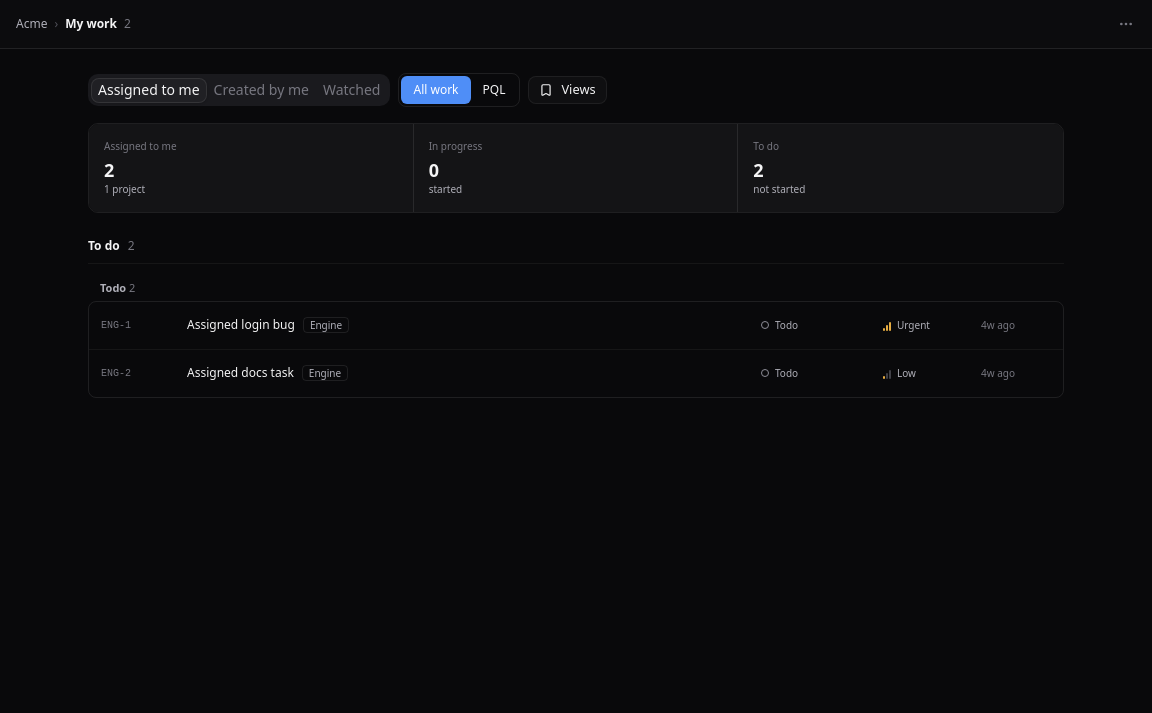
mywork PQL mode (C112T1) › leaving PQL mode restores the full set and closes the editor
The width and height of the screenshot is (1152, 713).
Check: the text "Assigned login bug" is shown, box [187, 316, 295, 334]
Check: the text "Assigned docs task" is shown, box [187, 364, 294, 382]
Step 1. Click the button "PQL" → (494, 90), box [470, 76, 517, 104]
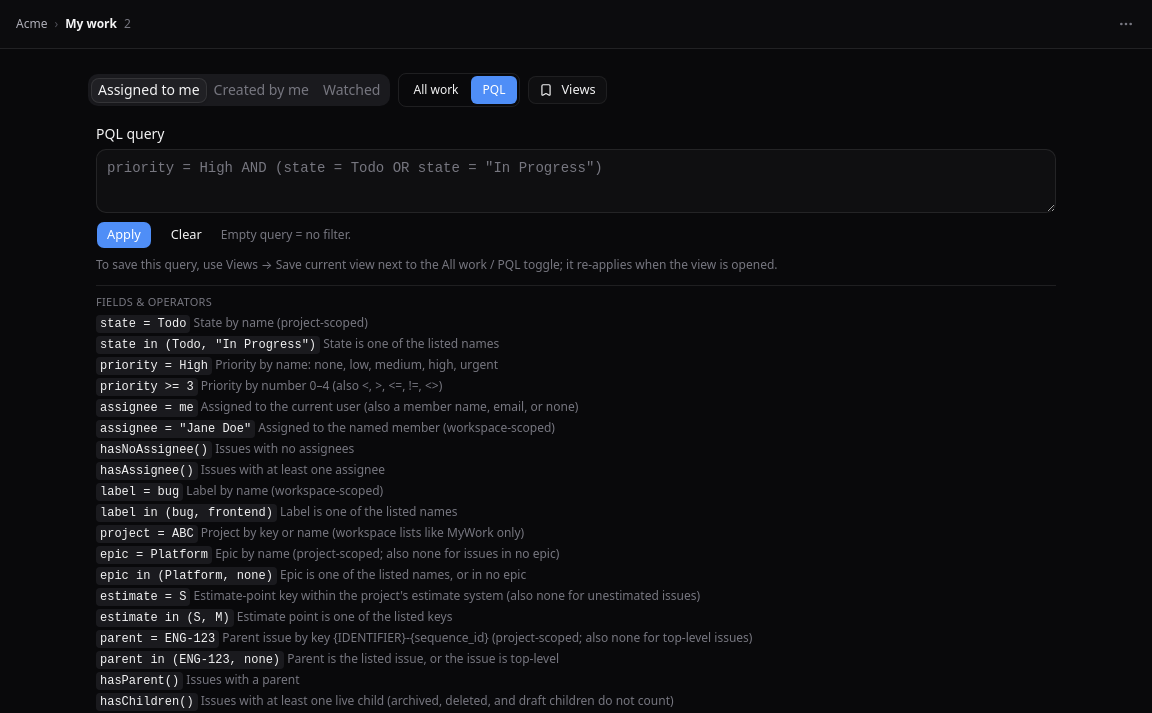
Check: the text box labelled "PQL query" is shown
Step 2. Type "priority = High" into the text box labelled "PQL query" → (576, 181), box [96, 149, 1056, 213]
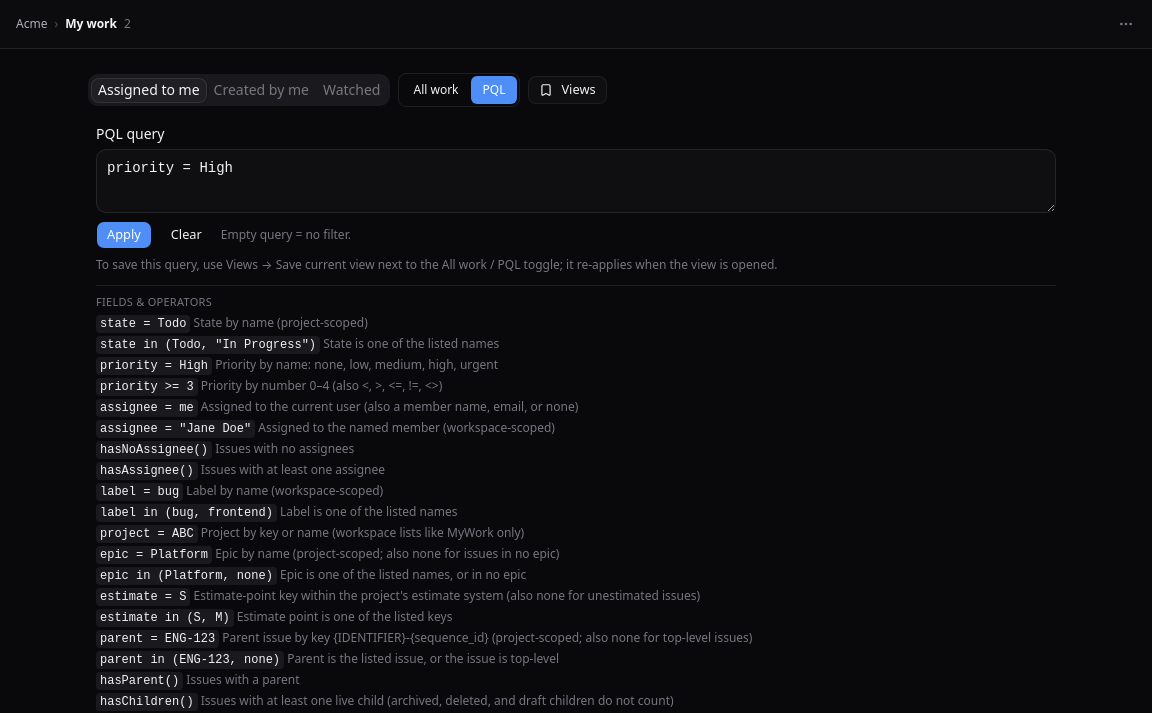
Step 3. Click the button "Apply" → (124, 235), box [96, 221, 152, 249]
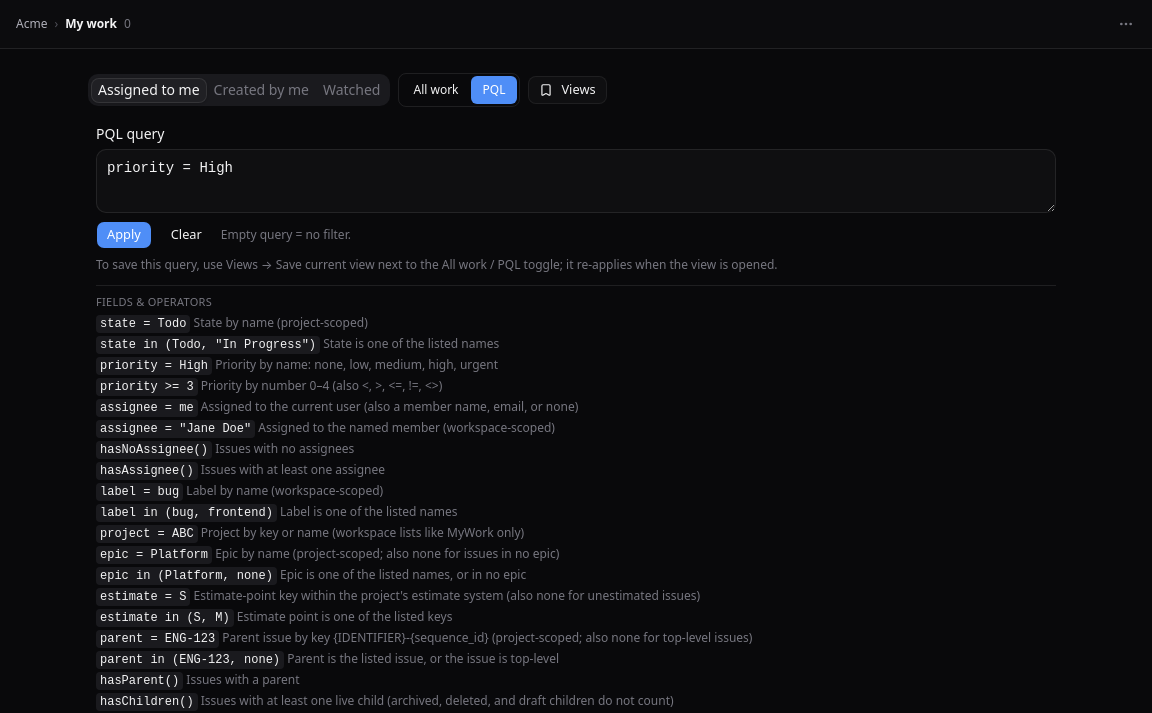
Check: the link "Assigned docs task" is not shown
Step 4. Click the button "All work" → (436, 90), box [402, 76, 470, 104]
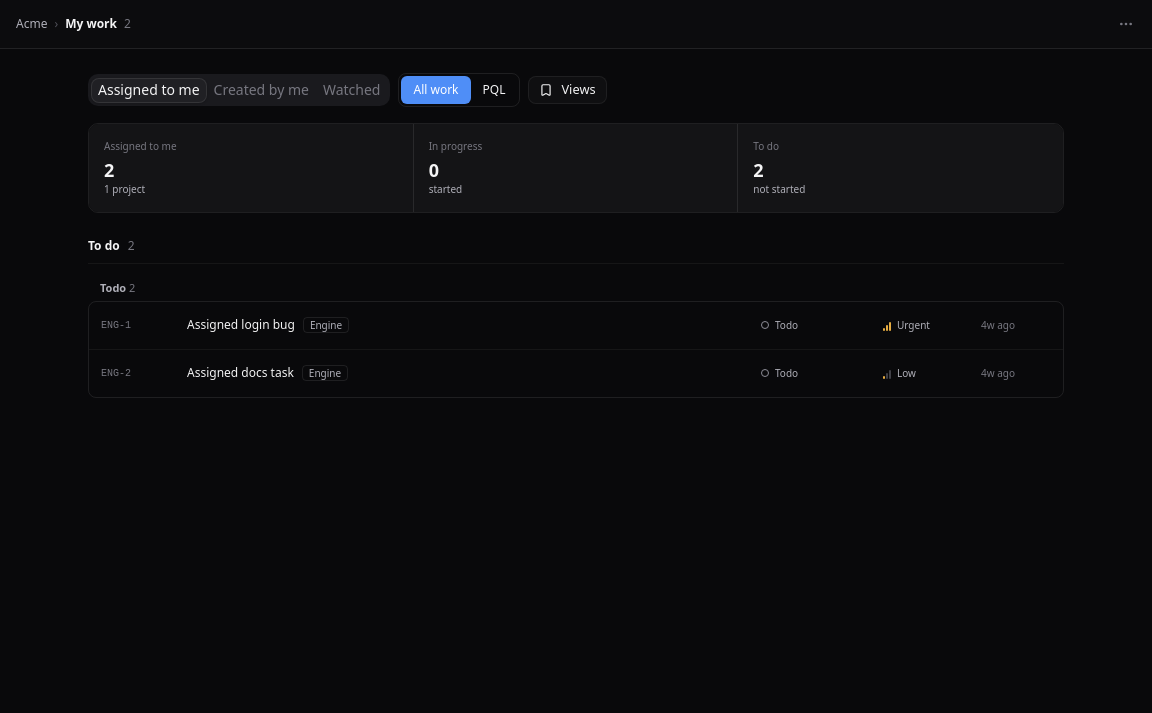
Check: the text "Assigned docs task" is shown, box [187, 364, 294, 382]
Check: the text "Assigned login bug" is shown, box [187, 316, 295, 334]
Check: the label labelled "PQL query" is gone
